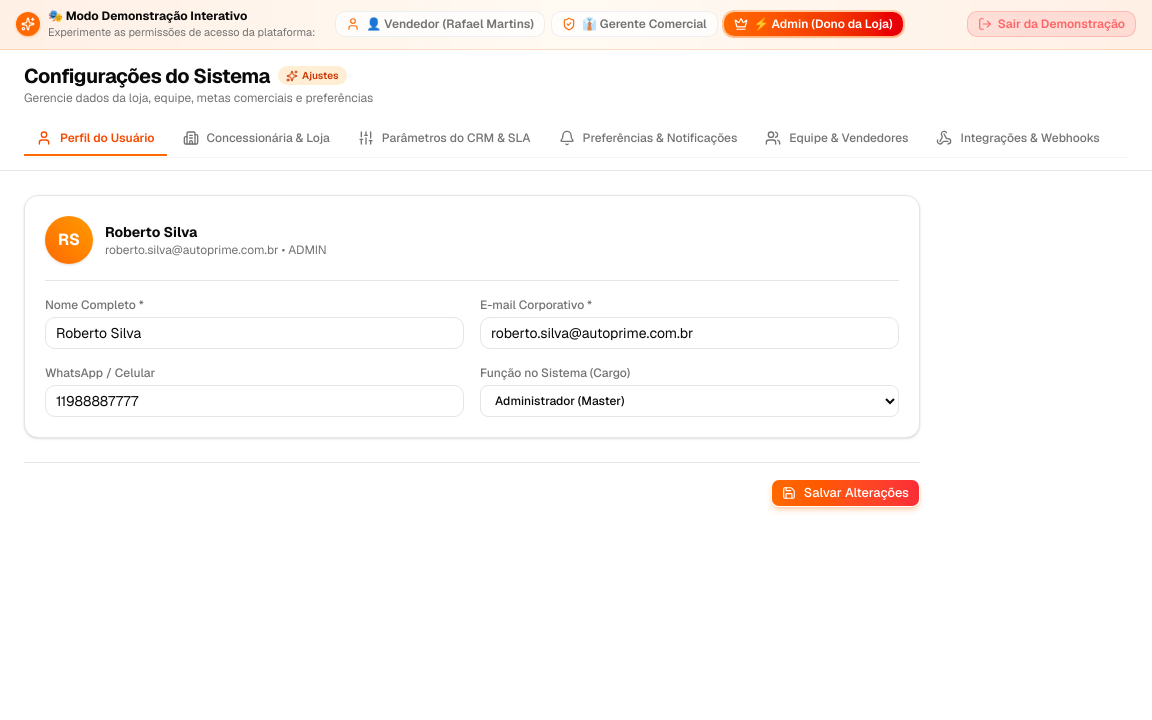
Test case: [IT-16] Controle de Acesso RBAC e Simulador de Papéis na Demonstração › [IT-16.5] Deve alternar para perfil 'Admin' liberando acesso total a abas de equipe
The image size is (1152, 720).
// Act (Navega para Equipe)
Click the tab "Equipe & Vendedores": [837, 138] box [753, 122, 920, 156]
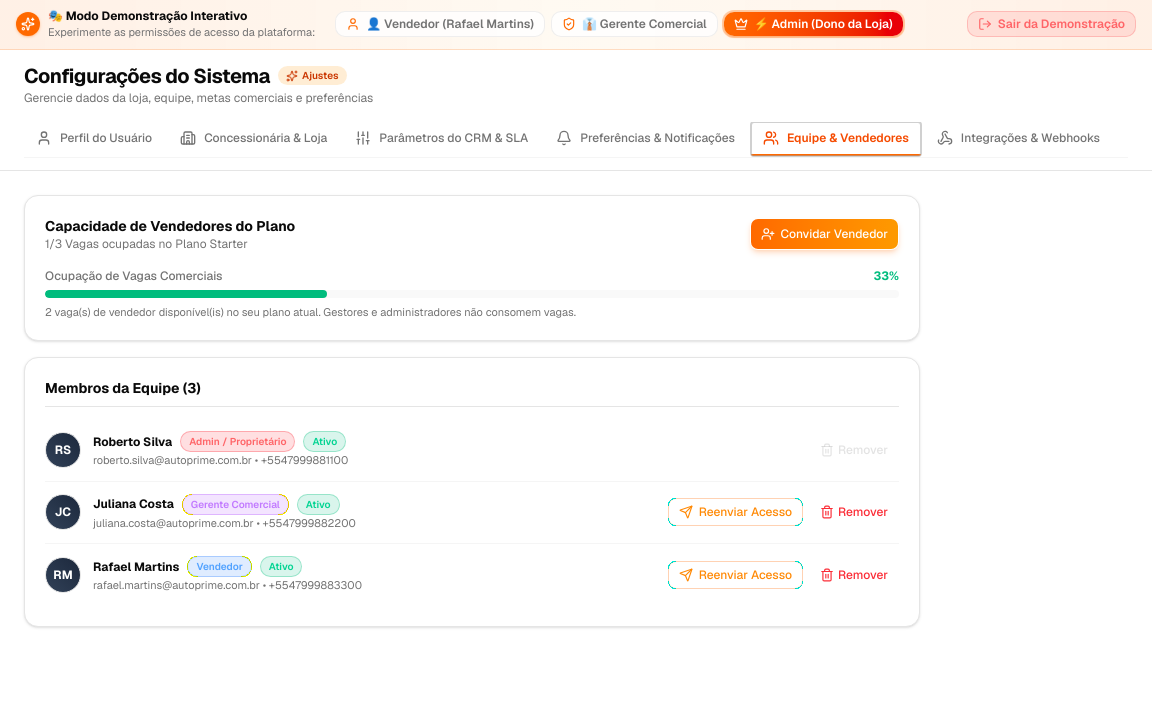
Now the heading "Capacidade de Vendedores do Plano" is shown, box [45, 216, 295, 236]
